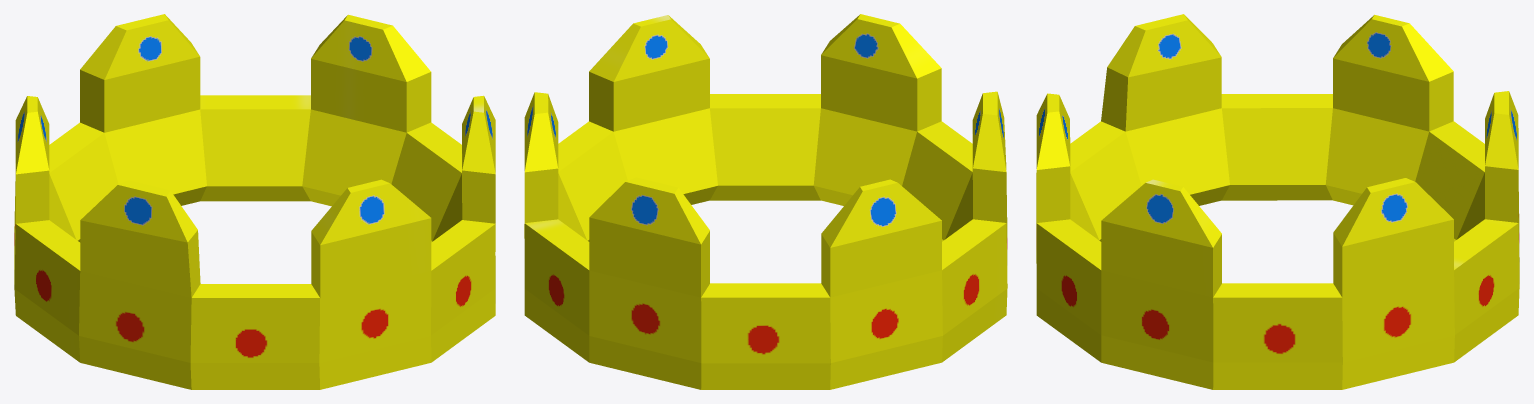
Rendered from crown.fbx.
3 renders of one model, left to right at view 1: azimuth 30°, elevation 25°; view 2: azimuth 150°, elevation 25°; view 3: azimuth 270°, elevation 25°, orthographic.
Parts seen in each view (by area): view 1: Crown; view 2: Crown; view 3: Crown.
Part boxes in pixels (x1=…): Crown: x1=14, y1=14, x2=495, y2=389; Crown: x1=524, y1=14, x2=1007, y2=389; Crown: x1=1036, y1=14, x2=1519, y2=389.
Size of the model in its own units: 24.11 by 10.19 by 24.1.
1 material, 1 textured.
